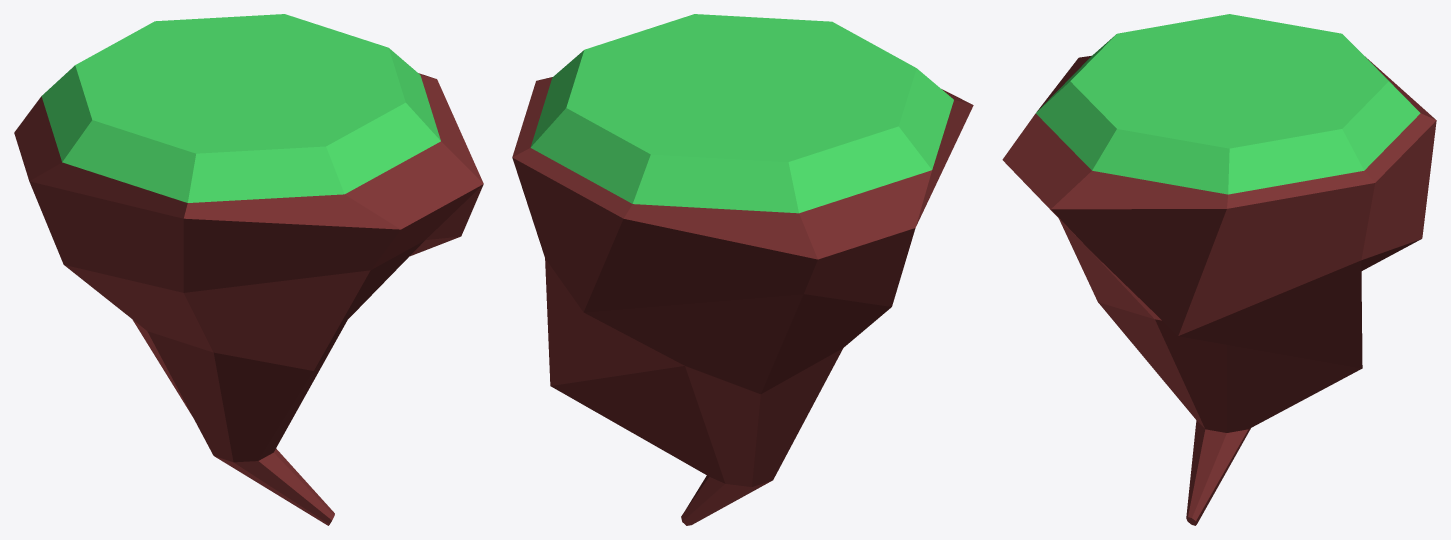
Rendered from Island2.fbx.
3 views of the same model, side by side, from view 1: azimuth 30°, elevation 25°; view 2: azimuth 150°, elevation 25°; view 3: azimuth 270°, elevation 25° (orthographic). The views are drawn at different scales.
Visible parts, largest first — view 1: Cylinder.001, Cylinder.004; view 2: Cylinder.001, Cylinder.004; view 3: Cylinder.001, Cylinder.004.
Part boxes in pixels (x1,y1,x2,y2): Cylinder.001: (14, 73, 483, 525); Cylinder.004: (41, 14, 440, 202); Cylinder.001: (512, 77, 973, 525); Cylinder.004: (530, 14, 953, 213); Cylinder.001: (1002, 55, 1436, 525); Cylinder.004: (1036, 14, 1420, 194).
Bounding box in the file's own units: 972 × 1026 × 1076.
